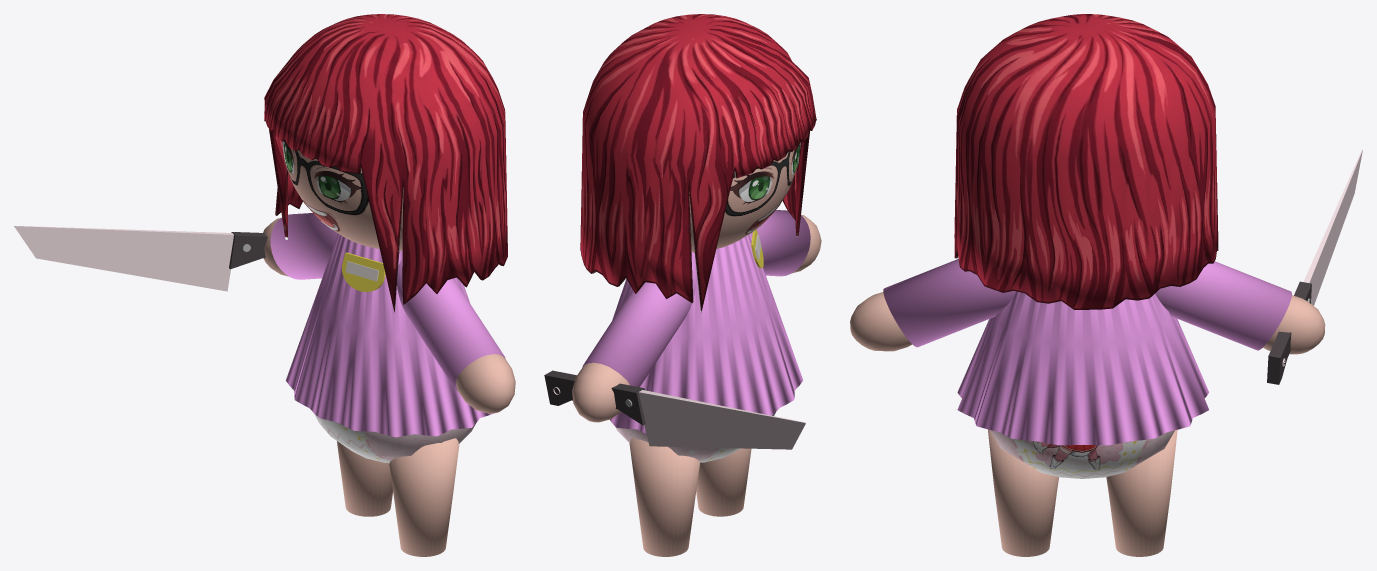
The model's file is stabbydiaperdoll.glb.
The picture shows the model from 3 angles, left to right: view 1: azimuth 30°, elevation 25°; view 2: azimuth 150°, elevation 25°; view 3: azimuth 270°, elevation 25°; orthographic projection. The views are drawn at different scales.
Parts seen in each view (by area): view 1: head.001, head.003, head.002, head, head.004, Cylinder; view 2: head.001, head.003, head.002, head, head.004; view 3: head.001, head.003, head.002, head, head.004.
Part boxes in pixels (<box>): head.001: <box>264,14,507,312</box>; head.003: <box>263,140,515,556</box>; head.002: <box>286,233,493,437</box>; head: <box>14,225,233,291</box>; head.004: <box>229,232,267,269</box>; Cylinder: <box>342,252,385,291</box>; head.001: <box>580,14,816,313</box>; head.003: <box>572,142,821,556</box>; head.002: <box>610,233,803,433</box>; head: <box>553,387,805,449</box>; head.004: <box>544,370,645,425</box>; head.001: <box>954,14,1218,309</box>; head.003: <box>850,259,1325,556</box>; head.002: <box>957,291,1208,445</box>; head: <box>1282,149,1362,366</box>; head.004: <box>1267,281,1311,384</box>.
Size of the model in its own units: 4.07 by 5.7 by 5.12.
11 materials, 4 textured.
